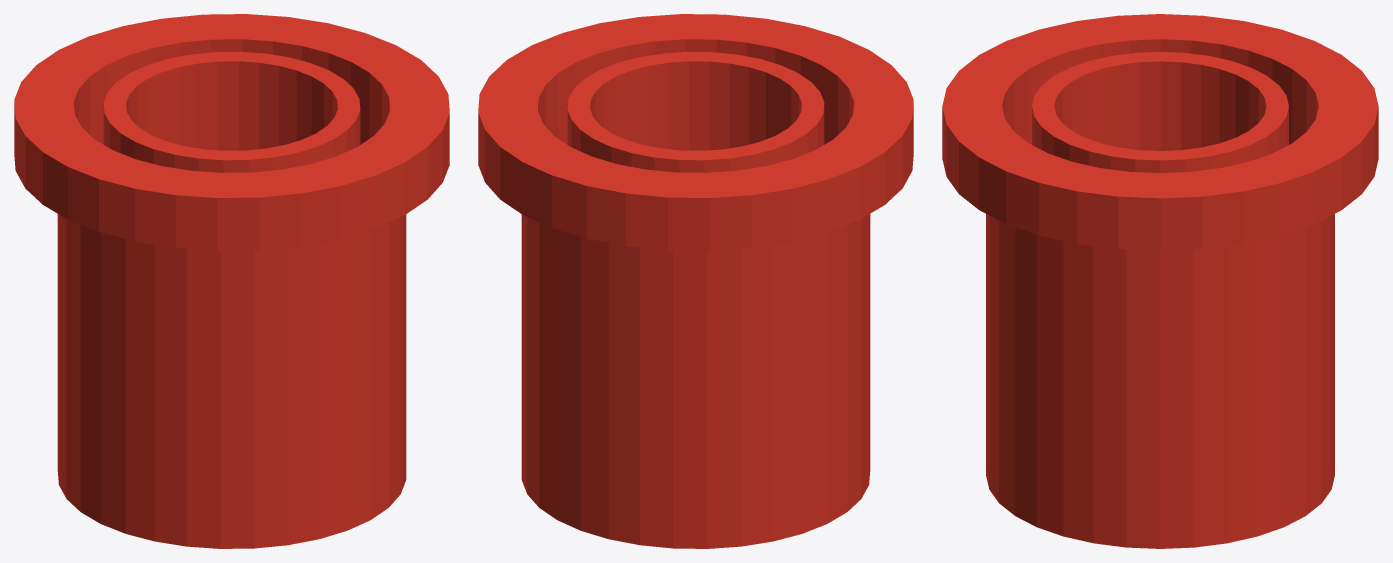
File: born.glb
3 renders of one model, left to right at view 1: azimuth 30°, elevation 25°; view 2: azimuth 150°, elevation 25°; view 3: azimuth 270°, elevation 25°, orthographic.
Parts seen in each view (by area): view 1: Cylinder; view 2: Cylinder; view 3: Cylinder.
Part boxes in pixels (box(x1,y1,x2,y2)): Cylinder: box(14, 14, 449, 548); Cylinder: box(478, 14, 913, 548); Cylinder: box(942, 14, 1378, 548).
Bounding box in the file's own units: 0.015 × 0.014 × 0.015.
